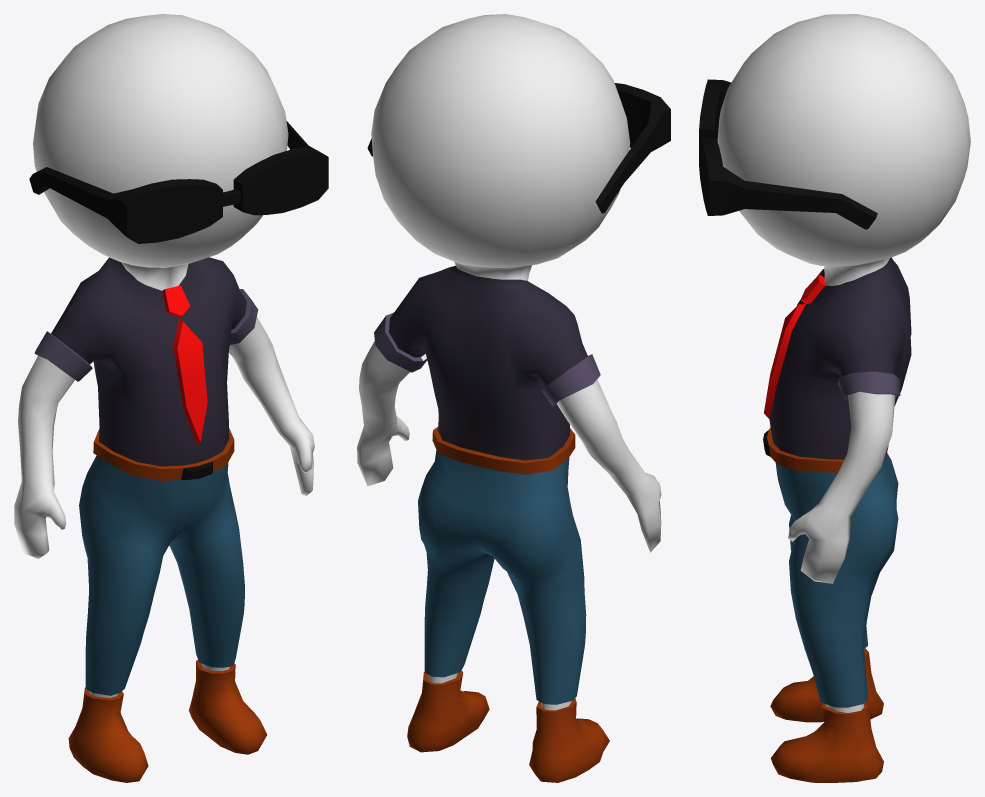
The model's file is noname_A_pose.fbx.
3 views of the same model, side by side, from view 1: azimuth 30°, elevation 25°; view 2: azimuth 150°, elevation 25°; view 3: azimuth 270°, elevation 25° (orthographic).
Visible parts, largest first — view 1: noname_A_pose; view 2: noname_A_pose; view 3: noname_A_pose.
Boxes of the visible parts, x1,y1,x2,y2 form: noname_A_pose: (14,14,328,782); noname_A_pose: (357,14,670,782); noname_A_pose: (699,14,970,782).
Size of the model in its own units: 78.34 by 185 by 63.56.
